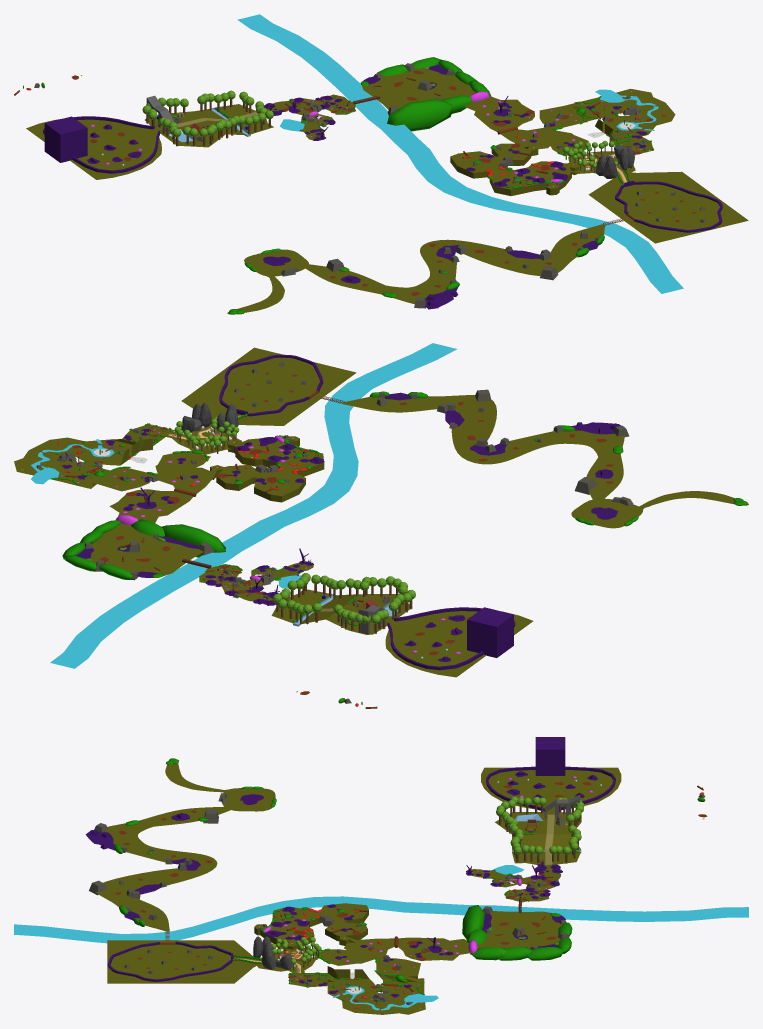
The model's file is GreyBoxPrueba.fbx.
3 views of the same model, one above another, from view 1: azimuth 30°, elevation 25°; view 2: azimuth 150°, elevation 25°; view 3: azimuth 270°, elevation 25° (orthographic). The views are drawn at different scales.
Parts seen in each view (by area): view 1: Plane.115, Plane.087, Plane.099, Plane.084, Plane.105, Circle, Plane.011, Plane.044, Plane.021, Cube.460, Plane.013, Plane.004 (+6 smaller); view 2: Plane.115, Plane.087, Plane.099, Plane.084, Plane.105, Plane.011, Circle, Plane.044, Plane.021, Plane.004, Plane.013, Plane.040 (+8 smaller); view 3: Plane.115, Plane.087, Plane.099, Plane.084, Plane.105, Plane.011, Plane.044, Circle, Plane.004, Plane.021, Plane.013, Plane.018 (+7 smaller).
Part boxes in pixels (x1,y1,x2,y2): Plane.115: [237, 14, 683, 293]; Plane.087: [588, 171, 748, 243]; Plane.099: [305, 224, 605, 304]; Plane.084: [26, 119, 161, 179]; Plane.105: [362, 68, 475, 109]; Circle: [43, 116, 160, 173]; Plane.011: [450, 127, 573, 178]; Plane.044: [145, 104, 273, 147]; Plane.021: [489, 161, 578, 195]; Cube.460: [387, 99, 452, 131]; Plane.013: [464, 96, 534, 131]; Plane.004: [595, 114, 655, 154]; Plane.115: [50, 343, 456, 668]; Plane.087: [181, 347, 356, 425]; Plane.099: [342, 395, 624, 500]; Plane.084: [385, 609, 533, 677]; Plane.105: [90, 523, 203, 576]; Plane.011: [155, 464, 305, 502]; Circle: [387, 607, 515, 670]; Plane.044: [271, 589, 410, 634]; Plane.021: [227, 436, 324, 476]; Plane.004: [71, 424, 174, 465]; Plane.013: [109, 489, 193, 522]; Plane.040: [571, 498, 642, 528]; Plane.115: [14, 896, 748, 943]; Plane.087: [107, 940, 256, 983]; Plane.099: [95, 806, 230, 931]; Plane.084: [481, 767, 621, 813]; Plane.105: [477, 911, 561, 948]; Plane.011: [320, 903, 394, 963]; Plane.044: [495, 812, 581, 864]; Circle: [486, 737, 615, 811]; Plane.004: [289, 966, 379, 1000]; Plane.021: [254, 907, 321, 949]; Plane.013: [398, 937, 472, 960]; Plane.018: [342, 998, 425, 1014].
Size of the model in its own units: 54900 by 4762 by 67167.
